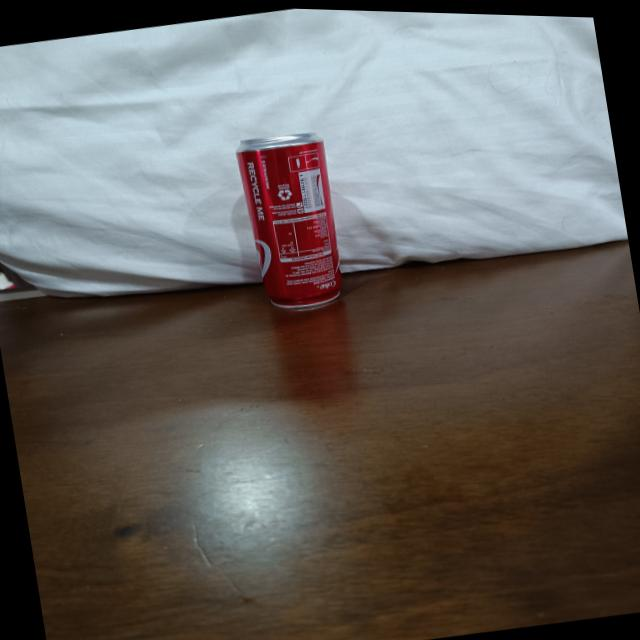coke: (230, 122, 354, 317)
